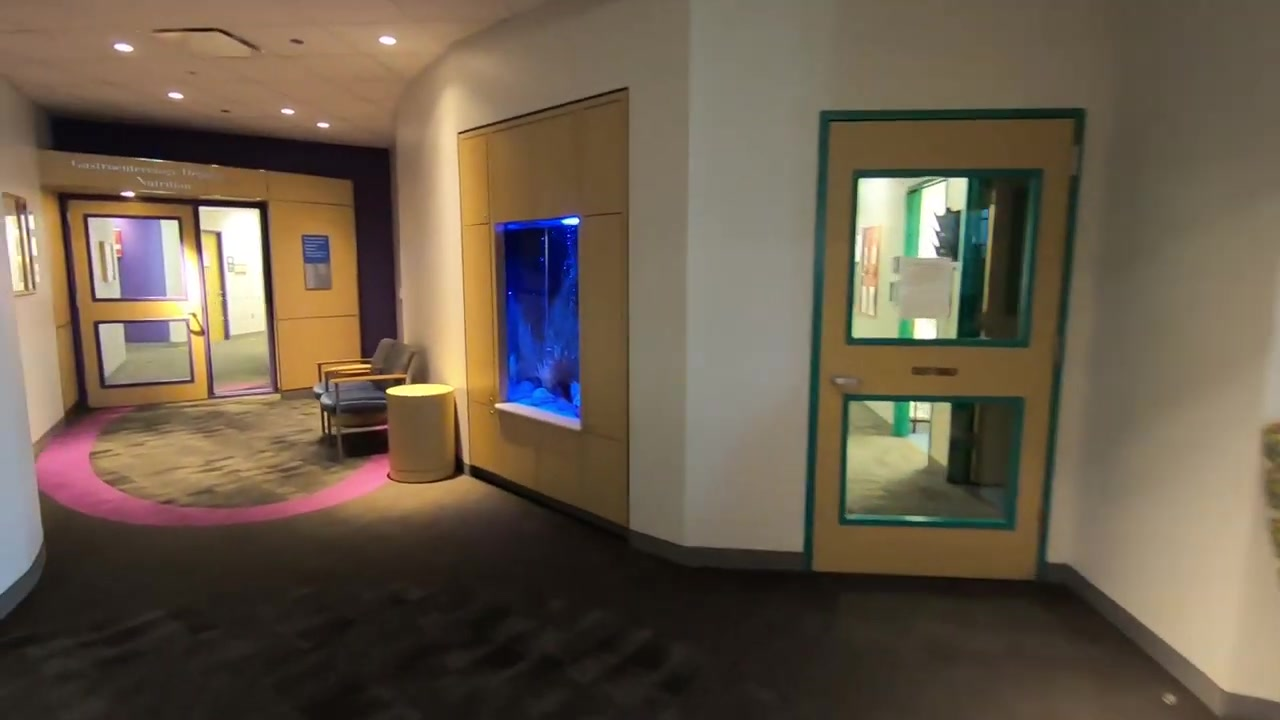chair: (322, 344, 418, 461), (316, 338, 398, 444)
door_handle: (832, 374, 861, 386), (174, 308, 200, 319)
table: (384, 381, 457, 481)
